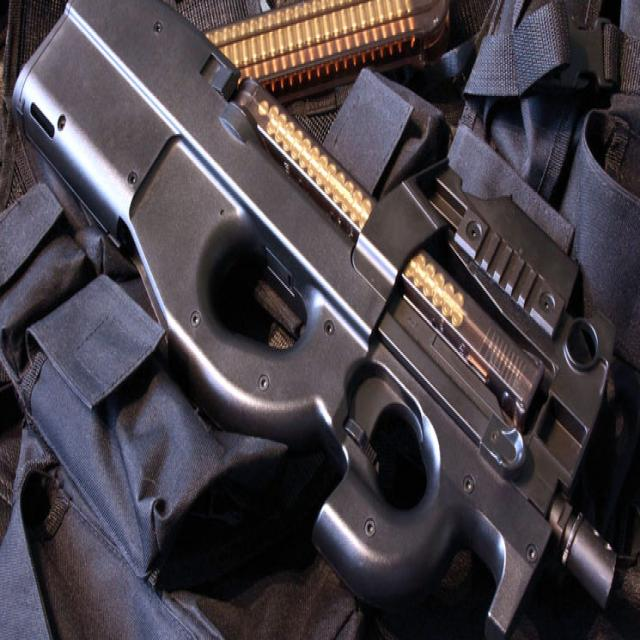Gun: (7, 0, 640, 640)
